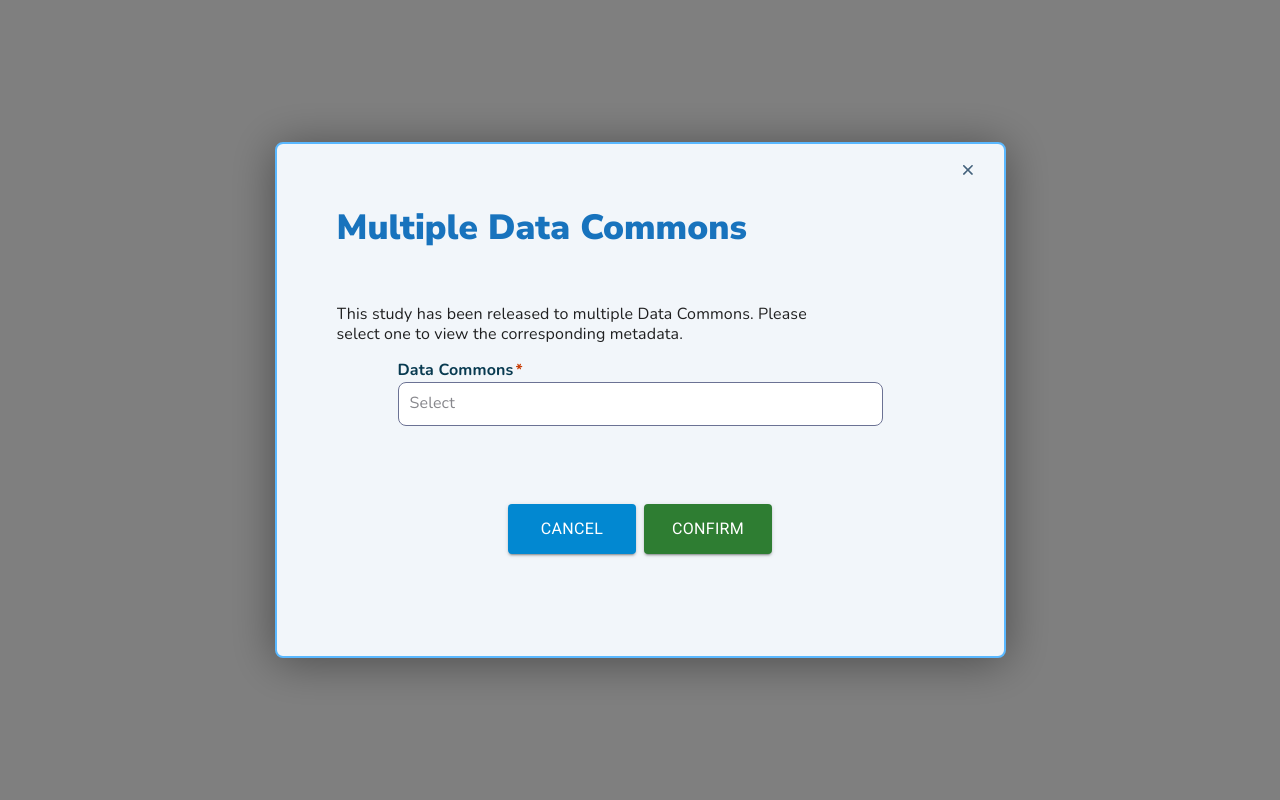
Scenario: DataExplorerDCSelectionDialog › shows validation error if no Data Commons is selected and Confirm is clicked
Click the button with test id "data-commons-selection-dialog-submit-button". click: (708, 529)
box: [644, 504, 772, 554]
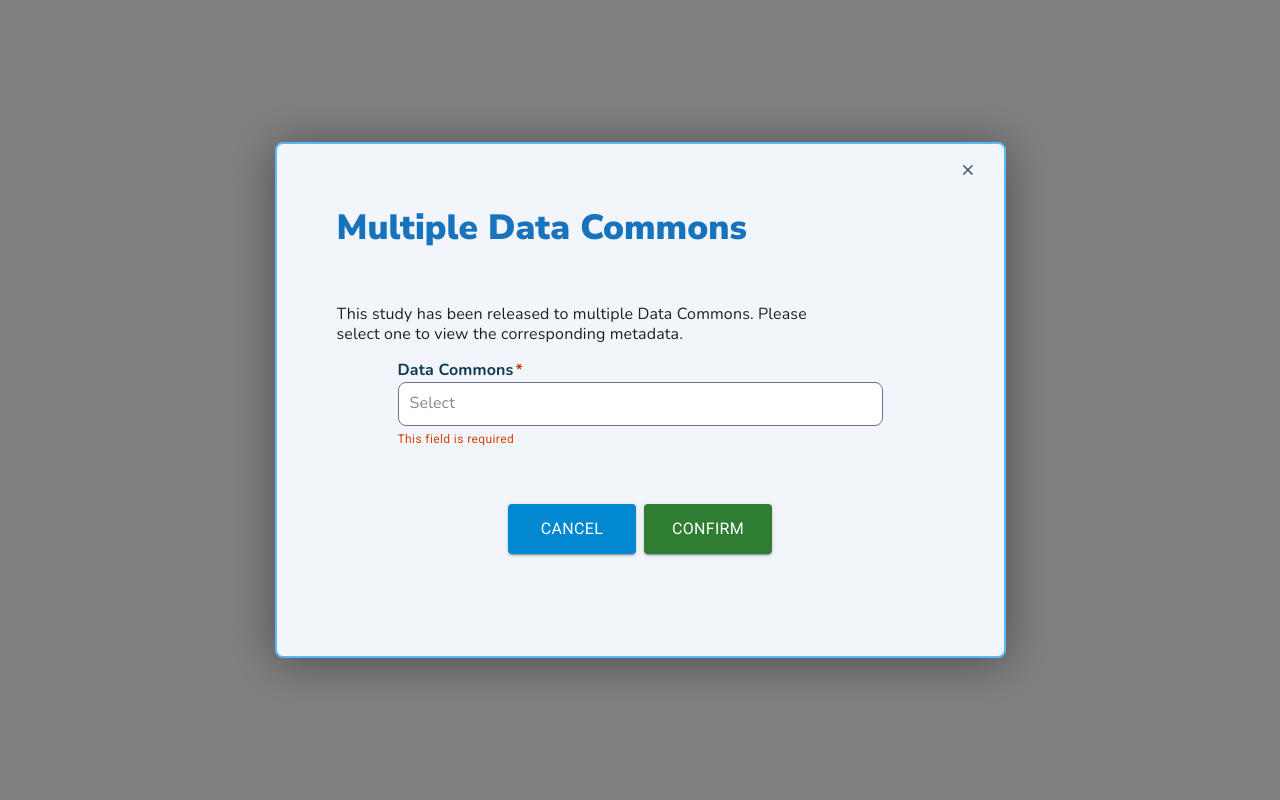
Check: the text "This field is required" is shown, box [398, 432, 514, 446]
